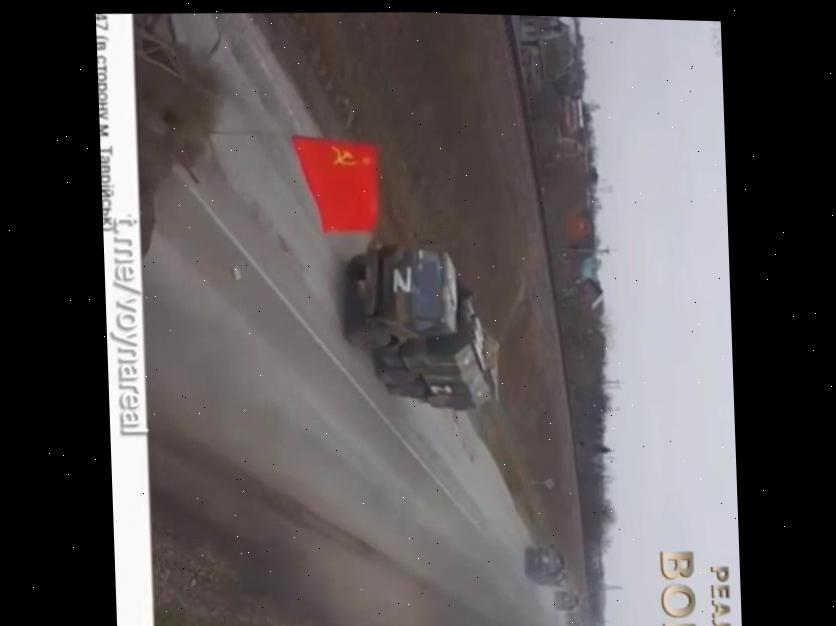truck: (338, 235, 500, 417), (523, 544, 566, 588), (548, 585, 582, 616)
